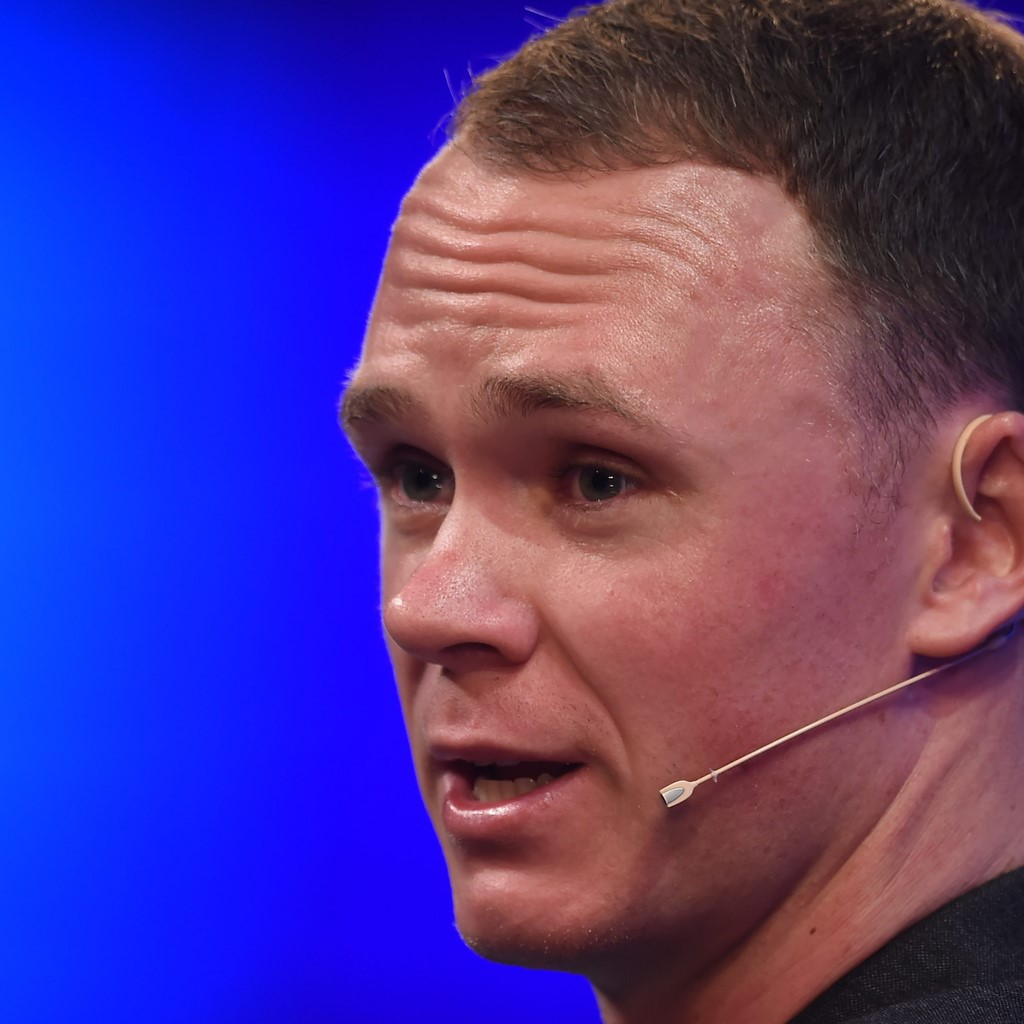sin_mascara: (358, 111, 961, 972)
